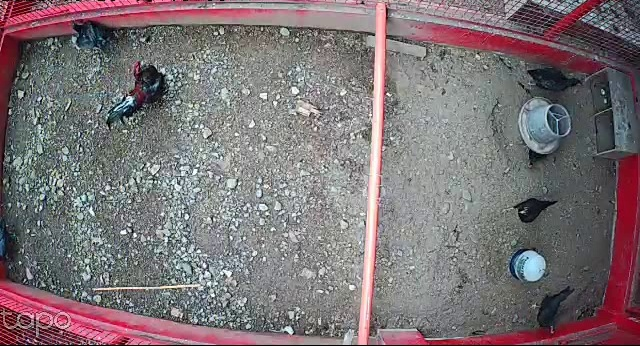Chicken: (530, 283, 575, 336), (500, 196, 562, 226), (525, 61, 585, 92), (68, 18, 111, 58)
Drinker: (509, 249, 549, 283)
Feeder: (518, 95, 573, 155)
Rooster: (105, 57, 169, 127)
